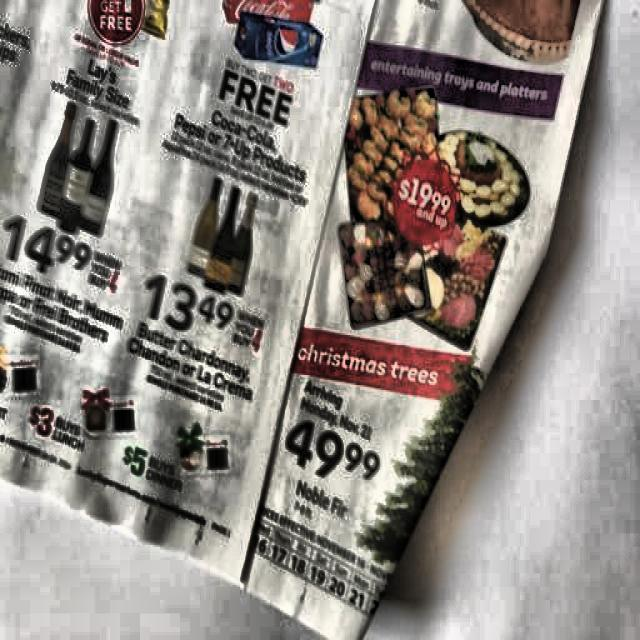paper: (0, 0, 608, 605)
